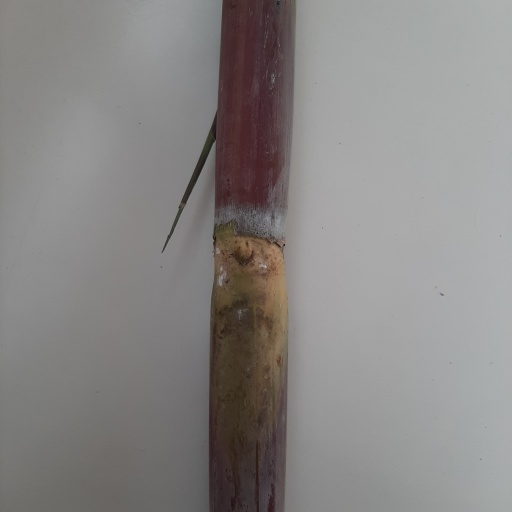Bud: (231, 239, 256, 271)
